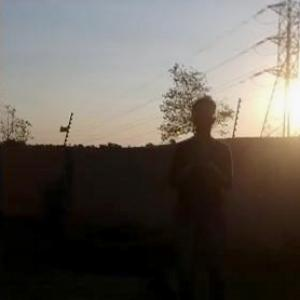follow: (163, 89, 236, 299)
